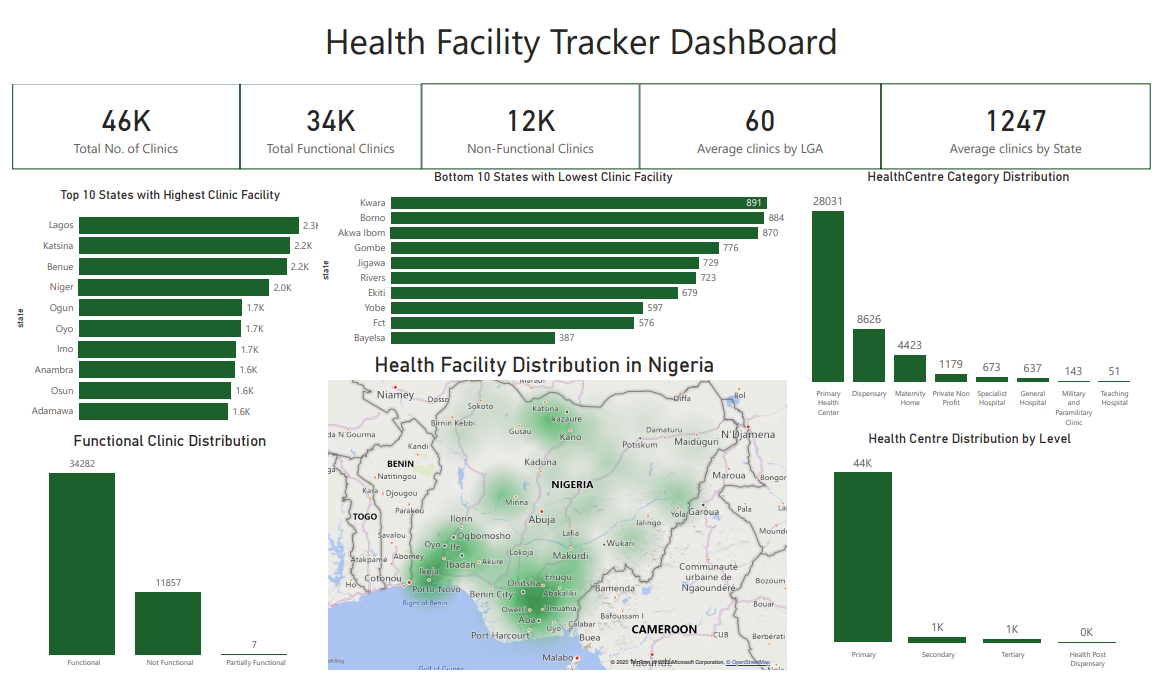

Layout of this report page (visuals, bound fields, positions):
{"tool":"powerbi","page":{"name":"Page 1","canvas":[1900,1100],"ordinal":0},"visuals":[{"type":"map","title":"Health Facility Distribution in Nigeria","fields":{"Category":["clinic_geo_data.state"],"Y":["Avg(clinic_geo_data.latitude)"],"X":["Avg(clinic_geo_data.longitude)"],"Size":["CountNonNull(clinic_geo_data.state)"]},"box":[480,566.7,816.7,533.3],"z":0},{"type":"clusteredColumnChart","title":"Functional Clinic Distribution","fields":{"Category":["clinic_geo_data.ownership"],"Y":["CountNonNull(clinic_geo_data.ownership)"]},"box":[0,696.7,526.7,403.3],"z":1000},{"type":"clusteredBarChart","title":"Top 10 States with Highest Clinic Facility","fields":{"Y":["CountNonNull(clinic_geo_data.clinic_id)"],"Category":["clinic_geo_data.state"]},"box":[0,290,526.7,406.7],"z":2000},{"type":"clusteredBarChart","title":"Bottom 10 States with Lowest Clinic Facility","fields":{"Y":["CountNonNull(clinic_geo_data.clinic_id)"],"Category":["clinic_geo_data.state"]},"box":[510,260,786.7,306.7],"z":3000},{"type":"card","fields":{"Values":["clinic_geo_data.TotalClinics"]},"box":[0,116.7,380,143.3],"z":4000},{"type":"card","fields":{"Values":["clinic_geo_data.FunctionalClinics"]},"box":[380,116.7,303.3,143.3],"z":5000},{"type":"card","fields":{"Values":["clinic_geo_data.FunctionalPct"]},"box":[1146.7,126.7,353.3,143.3],"z":6000},{"type":"clusteredColumnChart","title":"Health Centre Distribution by Level","fields":{"Category":["clinic_geo_data.level"],"Y":["CountNonNull(clinic_geo_data.level)"]},"box":[1296.7,696.7,603.3,403.3],"z":7000},{"type":"clusteredColumnChart","title":"HealthCentre Category Distribution","fields":{"Category":["clinic_geo_data.category"],"Y":["CountNonNull(clinic_geo_data.category)"]},"box":[1293.3,260,606.7,436.7],"z":8000},{"type":"textbox","box":[0,0,1900,116.7],"z":9000},{"type":"card","fields":{"Values":["clinic_geo_data.Non-FunctionalClinics"]},"box":[683.3,116.7,363.3,143.3],"z":10000},{"type":"card","fields":{"Values":["clinic_geo_data.Average clinics by state"]},"box":[1450,116.7,450,143.3],"z":11000},{"type":"card","fields":{"Values":["clinic_geo_data.Average clinics by LGA"]},"box":[1046.7,116.7,403.3,143.3],"z":12000}]}

Visuals, with their boxes in screenshot pixels (x1, y1, x2, y2), scaled from the page's 1900x1100 canvas onto the 1163x686 screenshot:
"Health Facility Distribution in Nigeria" map: box(294, 353, 794, 685)
"Functional Clinic Distribution" clusteredColumnChart: box(0, 434, 322, 685)
"Top 10 States with Highest Clinic Facility" clusteredBarChart: box(0, 181, 322, 434)
"Bottom 10 States with Lowest Clinic Facility" clusteredBarChart: box(312, 162, 794, 353)
card - clinic_geo_data.TotalClinics: box(0, 73, 233, 162)
card - clinic_geo_data.FunctionalClinics: box(233, 73, 418, 162)
card - clinic_geo_data.FunctionalPct: box(702, 79, 918, 168)
"Health Centre Distribution by Level" clusteredColumnChart: box(794, 434, 1162, 685)
"HealthCentre Category Distribution" clusteredColumnChart: box(792, 162, 1162, 434)
textbox: box(0, 0, 1162, 73)
card - clinic_geo_data.Non-FunctionalClinics: box(418, 73, 641, 162)
card - clinic_geo_data.Average clinics by state: box(888, 73, 1162, 162)
card - clinic_geo_data.Average clinics by LGA: box(641, 73, 888, 162)
